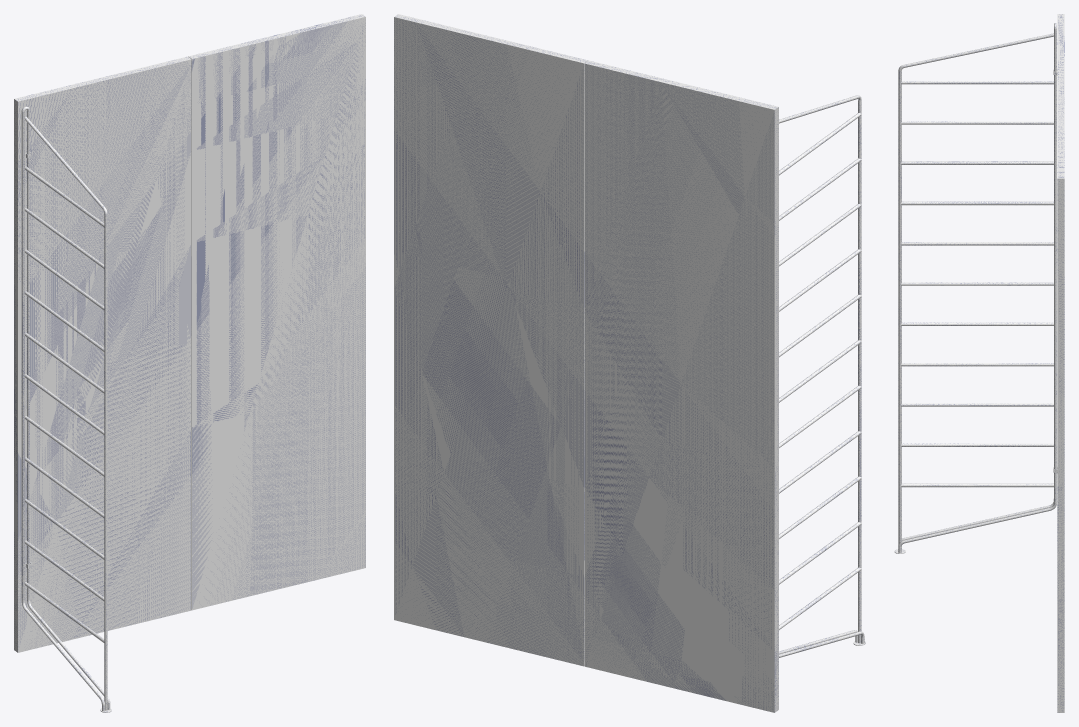
File: leftbase.fbx
The picture shows the model from 3 angles, left to right: view 1: azimuth 30°, elevation 25°; view 2: azimuth 150°, elevation 25°; view 3: azimuth 270°, elevation 25°; orthographic projection. The views are drawn at different scales.
Visible parts, largest first — view 1: Group1, Group2, Group18; view 2: Group1, Group18; view 3: Group1, Group18, Group2, Group11, Group13, Group16, Group4, Group5, Group6, Group7, Group8, Group9 (+4 smaller).
Part boxes in pixels (<box>): Group1: <box>14,14,365,652</box>; Group2: <box>21,106,29,599</box>; Group18: <box>25,116,107,710</box>; Group1: <box>394,14,778,712</box>; Group18: <box>779,95,861,643</box>; Group1: <box>1057,14,1064,712</box>; Group18: <box>898,33,1053,550</box>; Group2: <box>1054,23,1056,501</box>; Group11: <box>901,201,1053,205</box>; Group13: <box>901,483,1053,487</box>; Group16: <box>898,501,1056,552</box>; Group4: <box>901,81,1053,84</box>; Group5: <box>901,282,1053,285</box>; Group6: <box>901,322,1053,325</box>; Group7: <box>901,363,1053,366</box>; Group8: <box>901,121,1053,124</box>; Group9: <box>901,161,1053,164</box>.
Bounding box in the file's own units: 788 × 1194 × 345.
